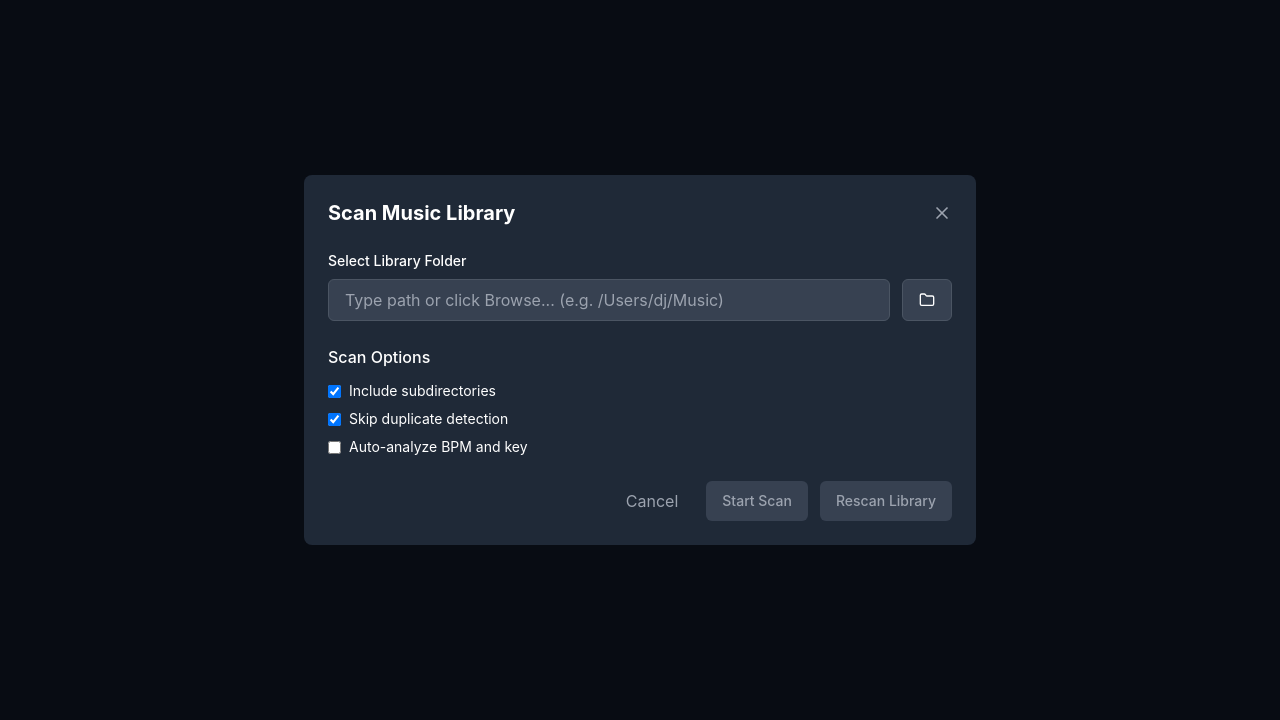
Test case: ScanDialog Component › Rescan Functionality › handles rescan errors gracefully
The image size is (1280, 720).
In the field with placeholder "Type path or click Browse... (e.g. /Users/dj/Music)": (609, 300) [328,279,890,321], type "/Users/test/Music"
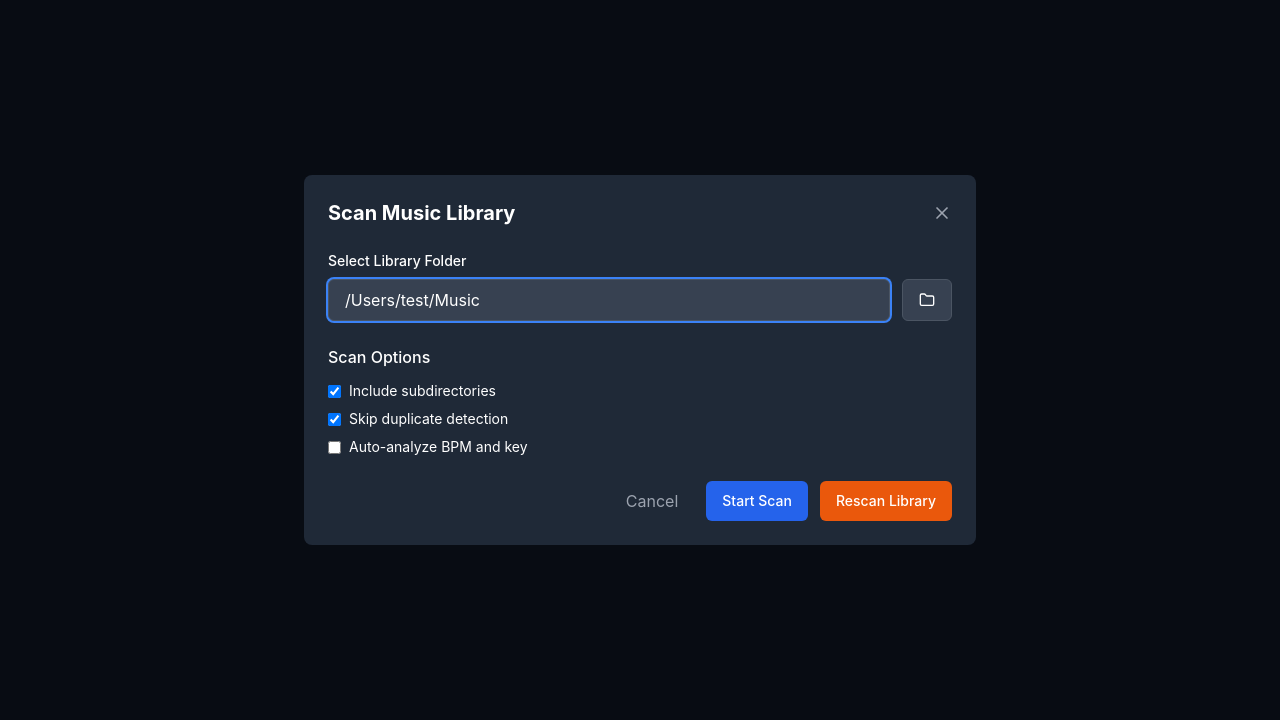
Click the button "Rescan Library": (886, 501) [820,481,952,521]
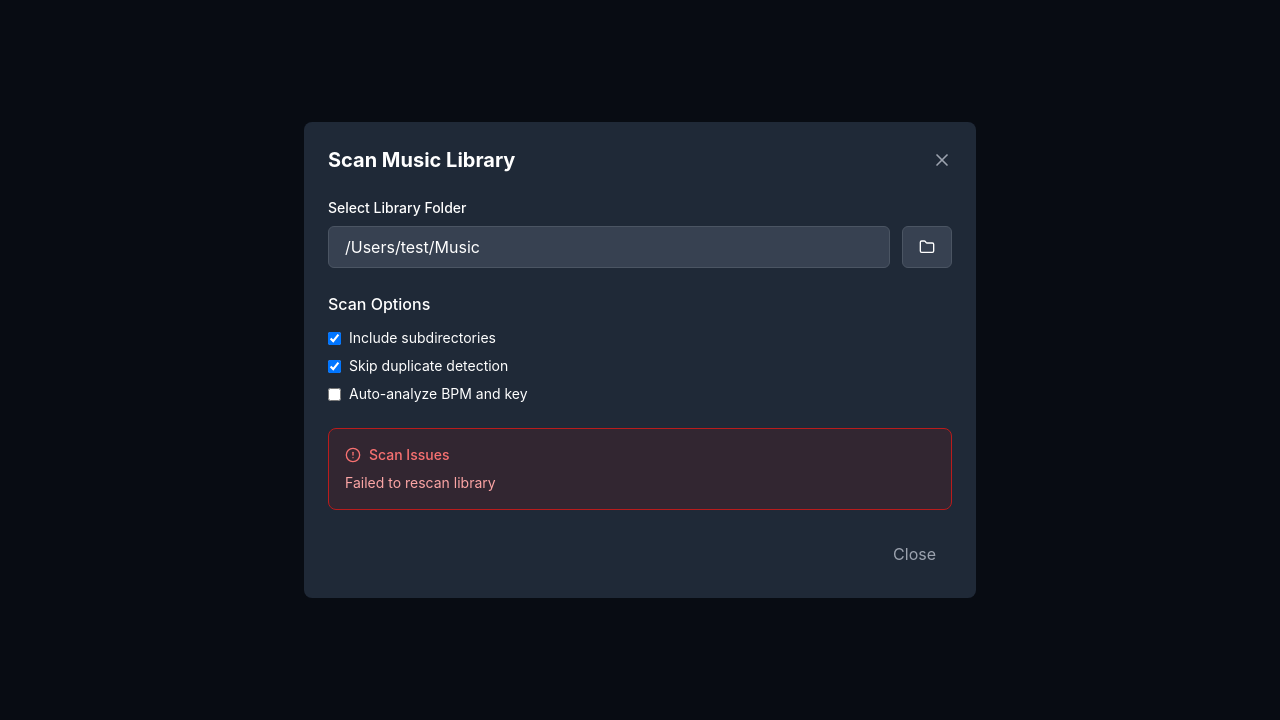
Check: the text "Failed to rescan library" is shown, box [345,474,496,491]
